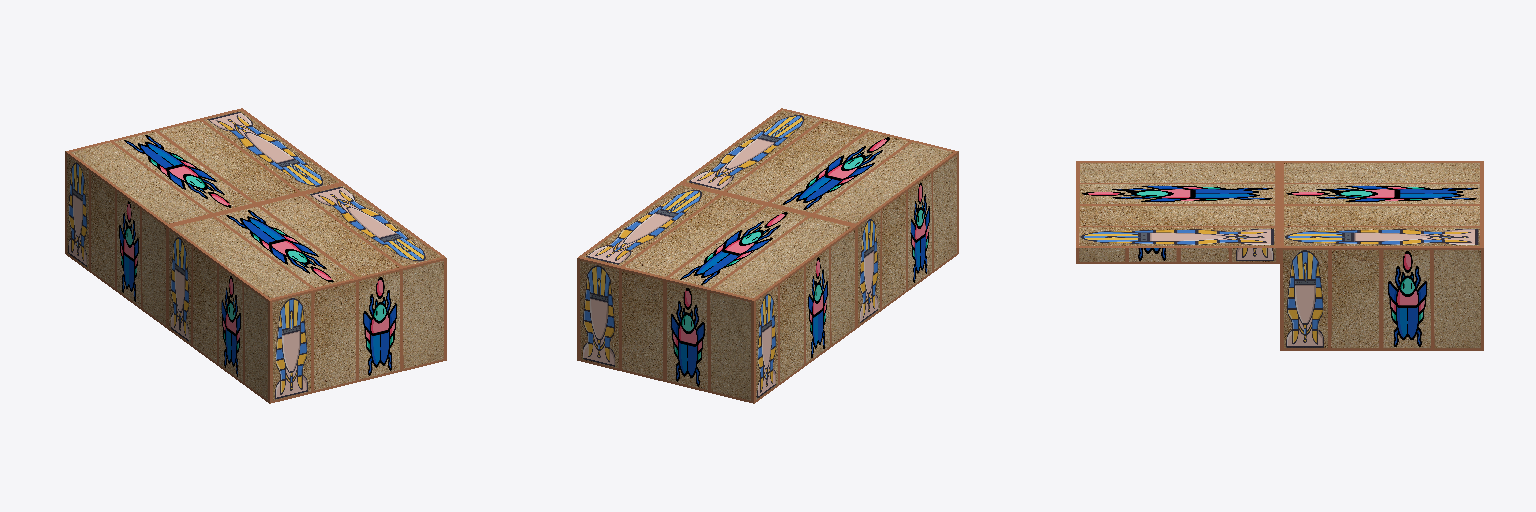
3 renders of one model, left to right at view 1: azimuth 30°, elevation 25°; view 2: azimuth 150°, elevation 25°; view 3: azimuth 270°, elevation 25°, orthographic.
Visible parts, largest first — view 1: Box094; view 2: Box094; view 3: Box094.
Part boxes in pixels (left/top/right/bottom): Box094: left=65, top=108, right=446, bottom=403; Box094: left=577, top=108, right=958, bottom=403; Box094: left=1076, top=161, right=1483, bottom=350.
Size of the model in its own units: 4.5 by 2.5 by 9.
1 materials, 1 textured.